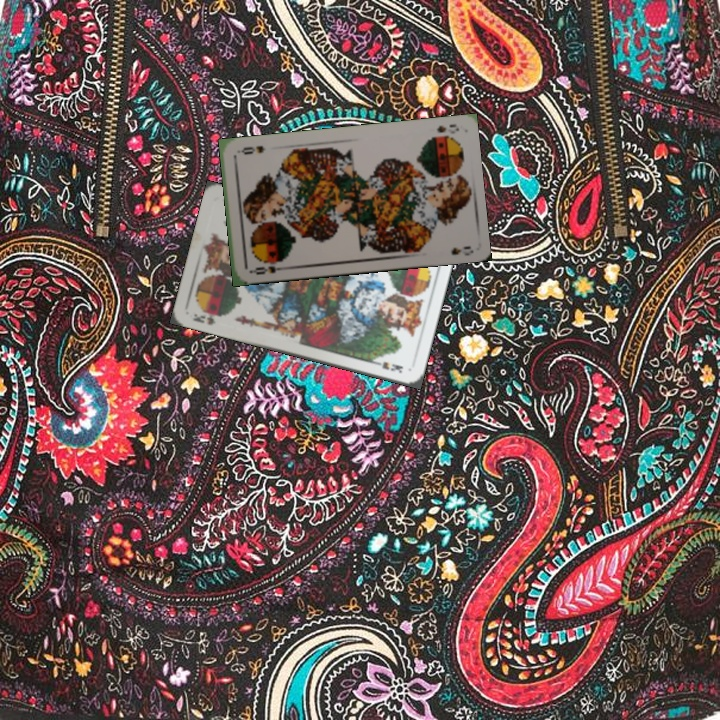SK: (189, 307, 224, 328)
SO: (246, 262, 287, 277), (433, 120, 461, 136)
